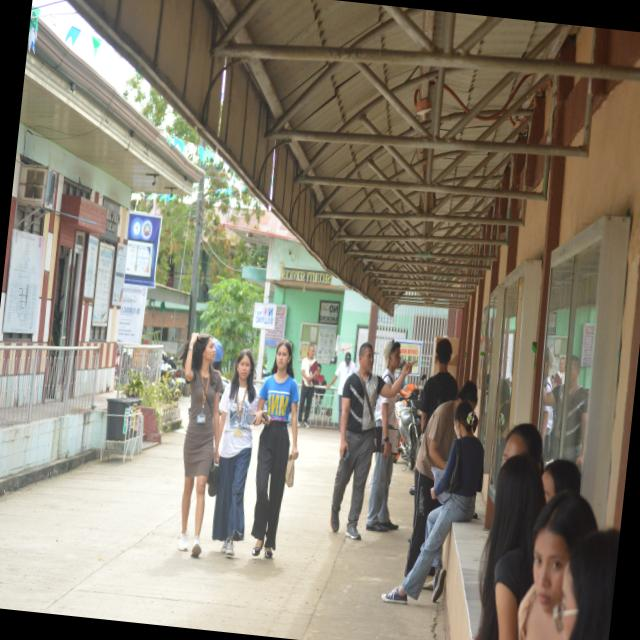person: (381, 402, 483, 604), (329, 342, 410, 539), (404, 381, 476, 576), (517, 491, 596, 639), (251, 341, 298, 558), (178, 333, 222, 556), (212, 350, 257, 555), (553, 530, 619, 639), (365, 397, 397, 532), (550, 356, 587, 463), (419, 338, 457, 431), (326, 352, 354, 421), (541, 459, 580, 502), (298, 345, 315, 427)
